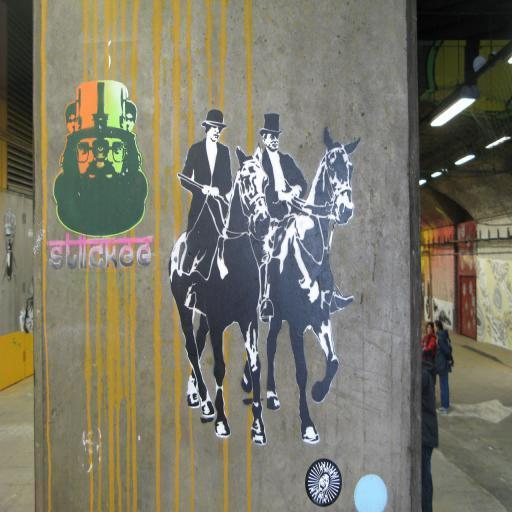horse: (242, 126, 362, 442), (168, 142, 270, 446)
